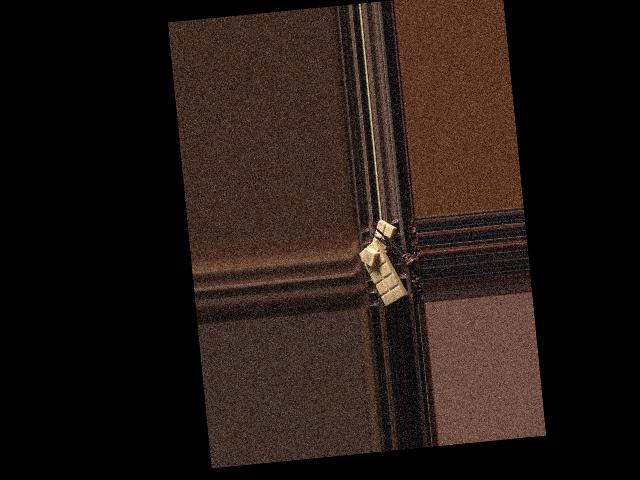chocolate: (358, 235, 407, 307)
